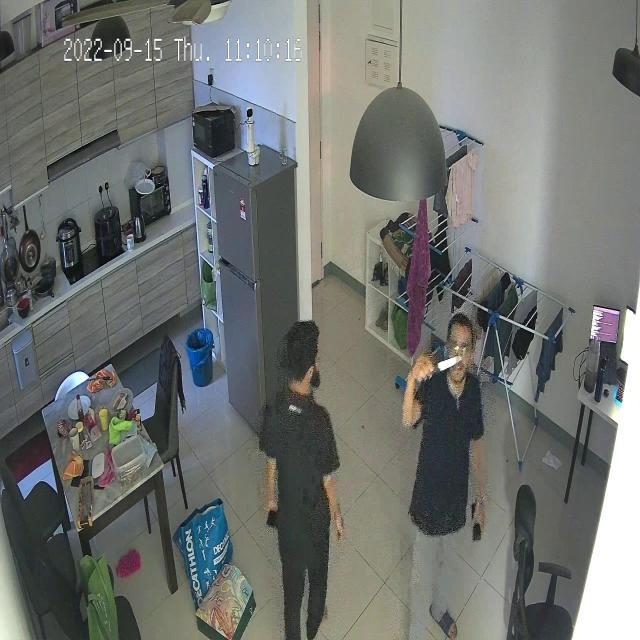Knife: (421, 346, 467, 386)
